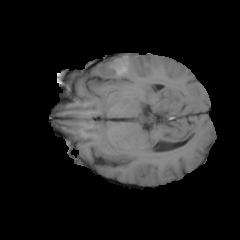glioma: (91, 53, 136, 85)
